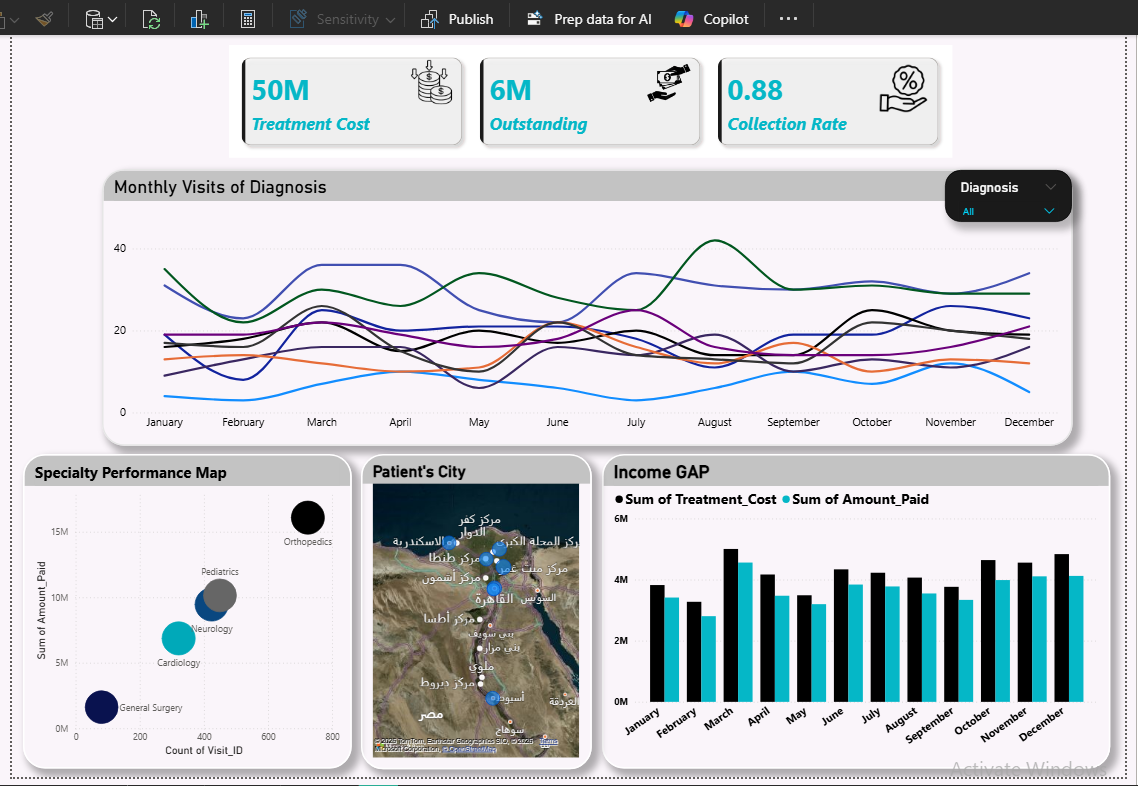

The page's visual inventory and layout, read from the dashboard file:
{"tool":"powerbi","page":{"name":"Page 3","canvas":[1500,1000],"ordinal":2},"visuals":[{"type":"lineChart","title":"Monthly Visits of Diagnosis","fields":{"Y":["CountNonNull(visits.Visit_ID)"],"Category":["visits.Visit_Date.Variation.Date Hierarchy.Month"],"Series":["visits.Diagnosis"]},"box":[121.3,181.2,1307.9,373.3],"z":0},{"type":"clusteredColumnChart","title":"Income GAP","fields":{"Category":["visits.Visit_Date.Variation.Date Hierarchy.Month"],"Y":["Sum(visits.Treatment_Cost)","Sum(payments.Amount_Paid)"]},"box":[795.6,564,685.3,423.7],"z":1000},{"type":"scatterChart","title":"Specialty Performance Map","fields":{"X":["payments.Visit_ID"],"Y":["Sum(payments.Amount_Paid)"],"Size":["Avg(visits.Treatment_Cost)"],"Series":["doctors.Specialty"]},"box":[15,564,442.8,423.7],"z":2000},{"type":"map","title":"Patient''s City","fields":{"Category":["patients_cleaned.City"],"Size":["CountNonNull(patients_cleaned.Patient_ID)"]},"box":[470,564,310.6,425.1],"z":3000},{"type":"cardVisual","fields":{"Data":["Sum(visits.Treatment_Cost)","Metrics1.Outstanding","Metrics1.Collection Rate"]},"box":[292.1,14.1,975.4,152.4],"z":4000},{"type":"image","box":[1160.4,35,82.2,74.1],"z":5000},{"type":"image","box":[529.6,24.3,71.4,79.5],"z":6000},{"type":"image","box":[838.3,13.5,98.4,102.4],"z":7000},{"type":"slicer","fields":{"Values":["visits.Diagnosis"]},"box":[1257.6,181.8,171.2,69.7],"z":8000}]}

Visuals, with their boxes on the page's 1500x1000 design canvas (x1, y1, x2, y2). These are canvas units, not pixel positions in the 1138x786 screenshot, which may show the page scaled, cropped or inside an application window:
"Monthly Visits of Diagnosis" lineChart: select_region(121, 181, 1429, 554)
"Income GAP" clusteredColumnChart: select_region(796, 564, 1481, 988)
"Specialty Performance Map" scatterChart: select_region(15, 564, 458, 988)
"Patient''s City" map: select_region(470, 564, 781, 989)
cardVisual - Sum(visits.Treatment_Cost) x Metrics1.Outstanding: select_region(292, 14, 1268, 166)
image: select_region(1160, 35, 1243, 109)
image: select_region(530, 24, 601, 104)
image: select_region(838, 14, 937, 116)
slicer - visits.Diagnosis: select_region(1258, 182, 1429, 252)
